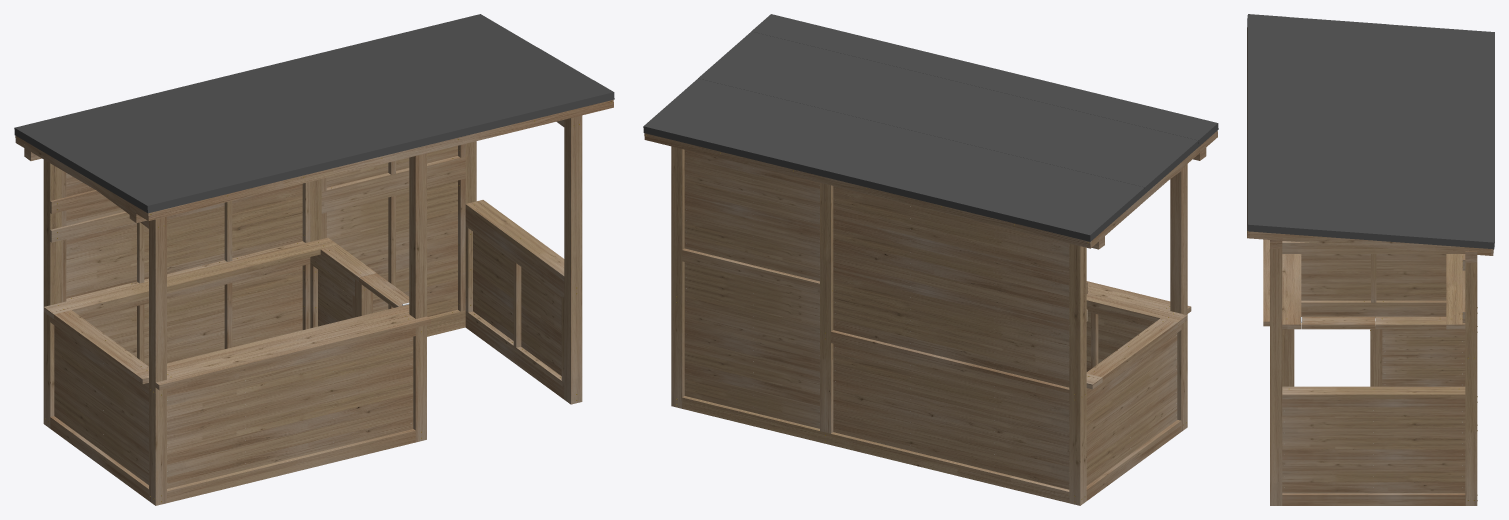
File: KDMBP8888nf Darts Bar Imp.glb
3 views of the same model, side by side, from view 1: azimuth 30°, elevation 25°; view 2: azimuth 150°, elevation 25°; view 3: azimuth 270°, elevation 25° (orthographic). The views are drawn at different scales.
Visible parts, largest first — view 1: fe01-171-3x1016x3664mm, fe02-3-3x1016x3666mm, fe03-172-3x1016x3667mm, fp03-25-89x89x2159mm, fp01-23-89x89x2159mm, fp02-24-89x89x2159mm, fs02-5-38x140x2134mm, rs01-82-38x140x2235mm, ff01-15-19x89x3658mm, fb01-6-89x89x1956mm, rp01-80-89x89x2045mm, fc02-8-19x89x1956mm (+64 smaller); view 2: fe01-171-3x1016x3664mm, fe02-3-3x1016x3666mm, fe03-172-3x1016x3667mm, rb01-52-89x89x3175mm, rp01-80-89x89x2045mm, fp01-23-89x89x2159mm, rp03-81-89x89x2045mm, rp02-68-89x89x1956mm, rm01-66-89x89x1956mm, fr01-53-19x89x3658mm, rc10-93-19x89x1956mm, rc14-97-19x89x1956mm (+54 smaller); view 3: fe01-171-3x1016x3664mm, fe02-3-3x1016x3666mm, fe03-172-3x1016x3667mm, fp03-25-89x89x2159mm, rp03-81-89x89x2045mm, rs01a-156-38x140x1346mm, eb02-126-89x89x1346mm, ec09-135-19x89x1346mm, ec10-136-19x89x1346mm, ec11-137-19x89x1346mm, ec12-138-19x89x1346mm, ec13-139-19x89x1346mm (+27 smaller).
Part boxes in pixels (x1,y1,x2,y2): fe01-171-3x1016x3664mm: (14, 14, 536, 168); fe02-3-3x1016x3666mm: (71, 47, 592, 200); fe03-172-3x1016x3667mm: (127, 80, 614, 213); fp03-25-89x89x2159mm: (564, 115, 582, 404); fp01-23-89x89x2159mm: (149, 216, 166, 505); fp02-24-89x89x2159mm: (409, 153, 426, 442); fs02-5-38x140x2134mm: (155, 314, 430, 390); rs01-82-38x140x2235mm: (43, 237, 337, 318); ff01-15-19x89x3658mm: (147, 100, 613, 220); fb01-6-89x89x1956mm: (167, 429, 415, 502); rp01-80-89x89x2045mm: (43, 160, 61, 428); fc02-8-19x89x1956mm: (167, 405, 413, 476); fe01-171-3x1016x3664mm: (643, 78, 1144, 241); fe02-3-3x1016x3666mm: (698, 31, 1198, 193); fe03-172-3x1016x3667mm: (751, 14, 1218, 146); rb01-52-89x89x3175mm: (682, 396, 1069, 502); rp01-80-89x89x2045mm: (1069, 243, 1086, 505); fp01-23-89x89x2159mm: (1170, 164, 1187, 431); rp03-81-89x89x2045mm: (671, 146, 684, 408); rp02-68-89x89x1956mm: (820, 182, 833, 433); rm01-66-89x89x1956mm: (831, 330, 1069, 400); fr01-53-19x89x3658mm: (644, 133, 1091, 248); rc10-93-19x89x1956mm: (833, 307, 1069, 375); rc14-97-19x89x1956mm: (833, 262, 1069, 330); fe01-171-3x1016x3664mm: (1377, 24, 1494, 249); fe02-3-3x1016x3666mm: (1267, 17, 1389, 241); fe03-172-3x1016x3667mm: (1247, 14, 1286, 233); fp03-25-89x89x2159mm: (1270, 248, 1282, 505); rp03-81-89x89x2045mm: (1465, 262, 1477, 505); rs01a-156-38x140x1346mm: (1282, 386, 1465, 399); eb02-126-89x89x1346mm: (1282, 493, 1465, 505); ec09-135-19x89x1346mm: (1282, 482, 1465, 493); ec10-136-19x89x1346mm: (1282, 471, 1465, 482); ec11-137-19x89x1346mm: (1282, 460, 1465, 471); ec12-138-19x89x1346mm: (1282, 449, 1465, 460); ec13-139-19x89x1346mm: (1282, 438, 1465, 449).
Size of the model in its own units: 3.67 by 2.36 by 1.82.
Materials: 5 (1 with a texture image).
